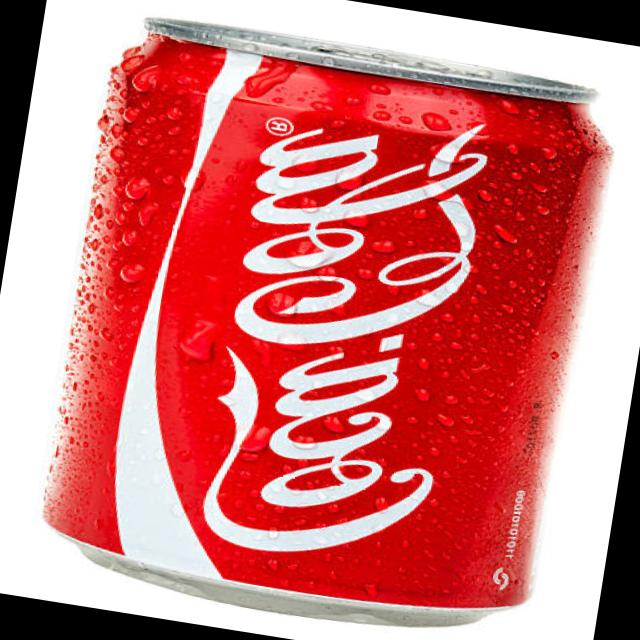cocacola: (32, 5, 623, 640)
